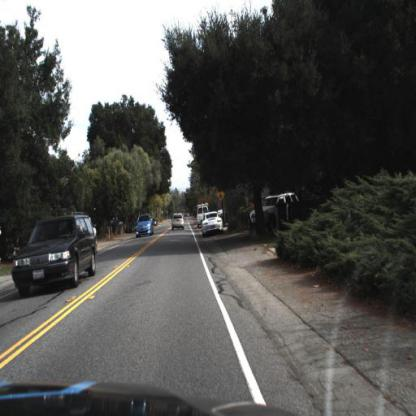car: (13, 217, 99, 300), (245, 188, 299, 233), (198, 208, 226, 241), (132, 212, 154, 240), (171, 211, 187, 233), (195, 201, 210, 224)
